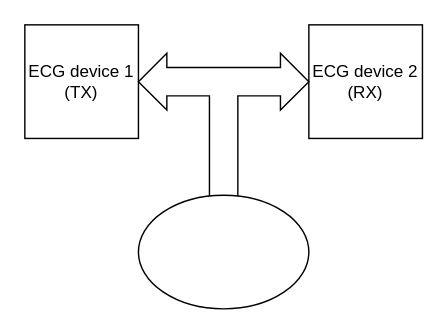
The diagram is 447 pixels wide and 334 high, and some of its shapes have lost their labels. The shapes that lost their labels are listed below. From the top down, each one's centre as x and y in pixels, then its label:
At (x=223, y=145): "ECG signal".
At (x=223, y=251): "ECG simulator".
